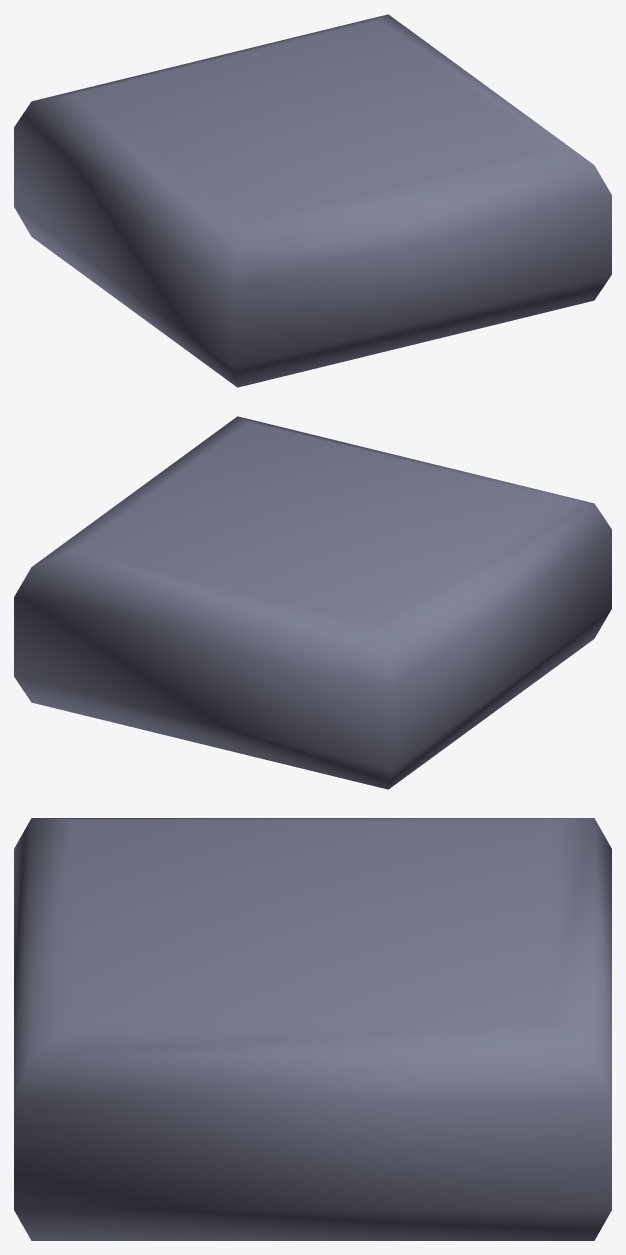
Rendered from conveyor-cross.obj.
The picture shows the model from 3 angles, top to bottom: view 1: azimuth 30°, elevation 25°; view 2: azimuth 150°, elevation 25°; view 3: azimuth 270°, elevation 25°; orthographic projection. The views are drawn at different scales.
Visible parts, largest first — view 1: conveyor-cross; view 2: conveyor-cross; view 3: conveyor-cross.
Boxes of the visible parts, x1,y1,x2,y2 form: conveyor-cross: (14, 14, 611, 387); conveyor-cross: (14, 416, 611, 789); conveyor-cross: (14, 818, 611, 1240).
Size of the model in its own units: 1 by 0.4 by 1.
